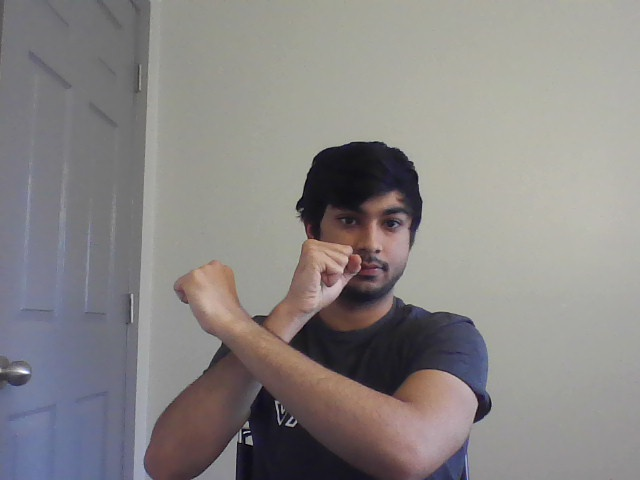cancel: (166, 234, 371, 379)
